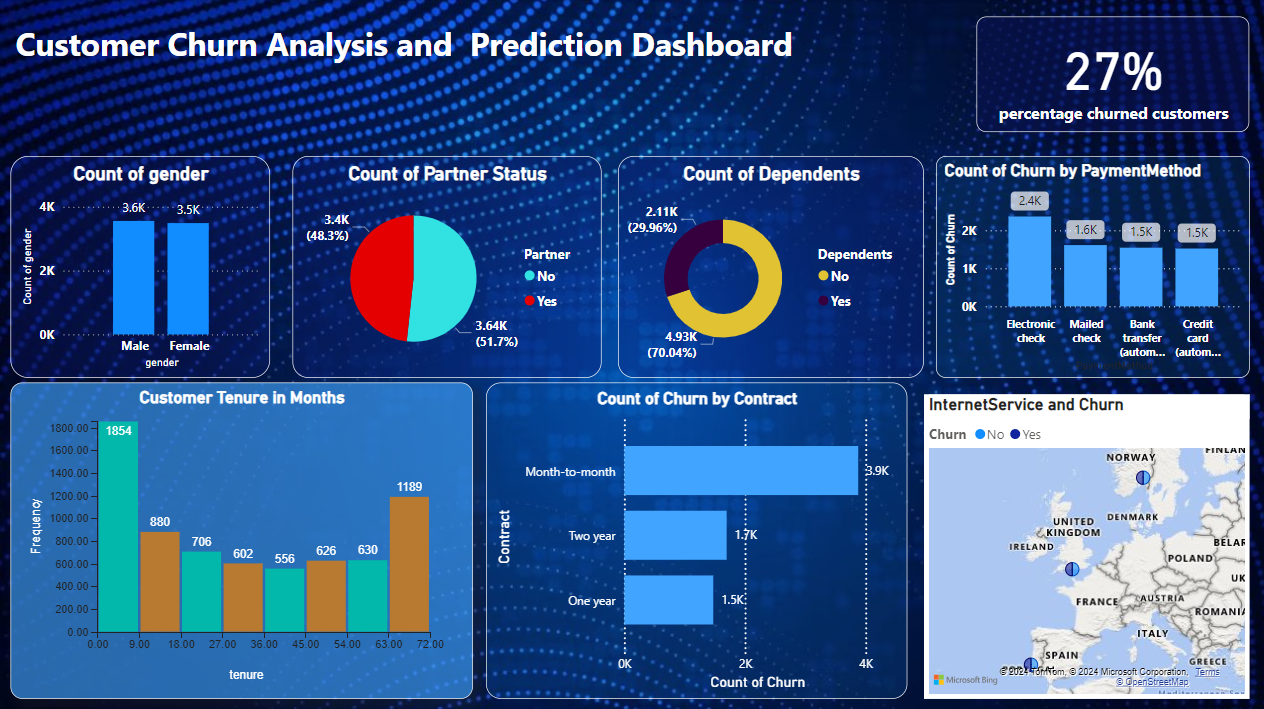

The page's visual inventory and layout, read from the dashboard file:
{"tool":"powerbi","page":{"name":"Page 1","canvas":[1280,720],"ordinal":0},"visuals":[{"type":"card","fields":{"Values":["All measures.percentage churned customers"]},"box":[985.7,19.7,275.6,116.6],"z":0},{"type":"clusteredColumnChart","title":"Count of gender ","fields":{"Category":["Telco_Customer_Churn_Dataset  (2).gender"],"Y":["CountNonNull(Telco_Customer_Churn_Dataset  (2).gender)"]},"box":[10.6,160.5,262,224.1],"z":1000},{"type":"pieChart","title":"Count of Partner Status ","fields":{"Category":["Telco_Customer_Churn_Dataset  (2).Partner"],"Y":["CountNonNull(Telco_Customer_Churn_Dataset  (2).Partner)"]},"box":[295.3,160.5,311.9,224.1],"z":2000},{"type":"donutChart","title":"Count of Dependents ","fields":{"Category":["Telco_Customer_Churn_Dataset  (2).Dependents"],"Y":["CountNonNull(Telco_Customer_Churn_Dataset  (2).Dependents)"]},"box":[623.9,160.5,308.9,224.1],"z":3000},{"type":"lineClusteredColumnComboChart","fields":{"Category":["Telco_Customer_Churn_Dataset  (2).PaymentMethod"],"Y":["CountNonNull(Telco_Customer_Churn_Dataset  (2).Churn)"]},"box":[944.9,160.5,316.5,224.1],"z":4000},{"type":"map","fields":{"Series":["Telco_Customer_Churn_Dataset  (2).Churn"],"Category":["Telco_Customer_Churn_Dataset  (2).InternetService"]},"box":[932.8,401.3,328.6,307.4],"z":5000},{"type":"Histogram1445664487616","title":"Customer Tenure in Months","fields":{"Values":["Telco_Customer_Churn_Dataset  (2).tenure"],"Frequency":["CountNonNull(Telco_Customer_Churn_Dataset  (2).customerID)"]},"box":[10.6,389.2,466.4,319.5],"z":6000},{"type":"clusteredBarChart","fields":{"Category":["Telco_Customer_Churn_Dataset  (2).Contract"],"Y":["CountNonNull(Telco_Customer_Churn_Dataset  (2).Churn)"]},"box":[490.6,389.2,425.5,319.5],"z":7000},{"type":"textbox","box":[10.6,19.7,855.5,116.6],"z":8000}]}

Visuals, with their boxes in screenshot pixels (x1, y1, x2, y2), scaled from the page's 1280x720 canvas onto the 1264x709 screenshot:
card - All measures.percentage churned customers: <box>973,19,1246,134</box>
"Count of gender " clusteredColumnChart: <box>10,158,269,379</box>
"Count of Partner Status " pieChart: <box>292,158,600,379</box>
"Count of Dependents " donutChart: <box>616,158,921,379</box>
lineClusteredColumnComboChart - Telco_Customer_Churn_Dataset  (2).PaymentMethod x CountNonNull(Telco_Customer_Churn_Dataset  (2).Churn): <box>933,158,1246,379</box>
map - Telco_Customer_Churn_Dataset  (2).Churn x Telco_Customer_Churn_Dataset  (2).InternetService: <box>921,395,1246,698</box>
"Customer Tenure in Months" Histogram1445664487616: <box>10,383,471,698</box>
clusteredBarChart - Telco_Customer_Churn_Dataset  (2).Contract x CountNonNull(Telco_Customer_Churn_Dataset  (2).Churn): <box>484,383,905,698</box>
textbox: <box>10,19,855,134</box>
